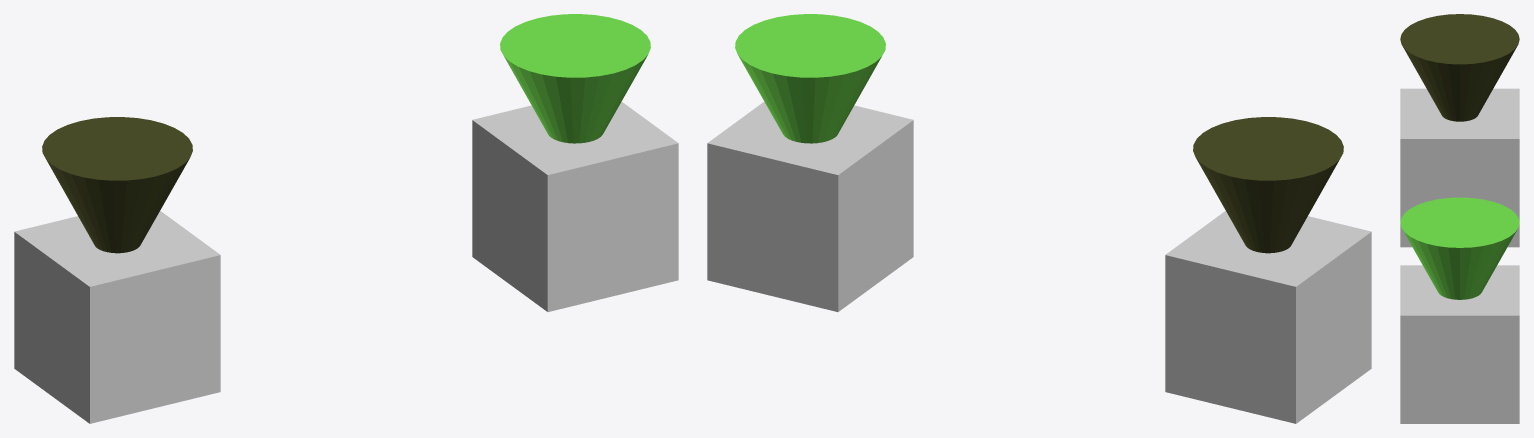
The model's file is two_bulbs.gltf.
3 renders of one model, left to right at view 1: azimuth 30°, elevation 25°; view 2: azimuth 150°, elevation 25°; view 3: azimuth 270°, elevation 25°, orthographic. The views are drawn at different scales.
Parts seen in each view (by area): view 1: Cube, Cube.001, Office, Kitchen; view 2: Cube, Cube.001, Office, Kitchen; view 3: Cube.001, Cube, Office, Kitchen.
Part boxes in pixels (x1=…): Cube: x1=14, y1=211, x2=220, y2=423; Cube.001: x1=472, y1=101, x2=678, y2=311; Office: x1=42, y1=117, x2=192, y2=253; Kitchen: x1=500, y1=14, x2=650, y2=143; Cube: x1=1165, y1=211, x2=1371, y2=423; Cube.001: x1=707, y1=101, x2=913, y2=311; Office: x1=1193, y1=117, x2=1343, y2=253; Kitchen: x1=735, y1=14, x2=885, y2=143; Cube.001: x1=1400, y1=265, x2=1519, y2=423; Cube: x1=1400, y1=88, x2=1519, y2=247; Office: x1=1400, y1=14, x2=1519, y2=121; Kitchen: x1=1400, y1=197, x2=1519, y2=299.
Size of the model in its own units: 8.99 by 3.38 by 2.
